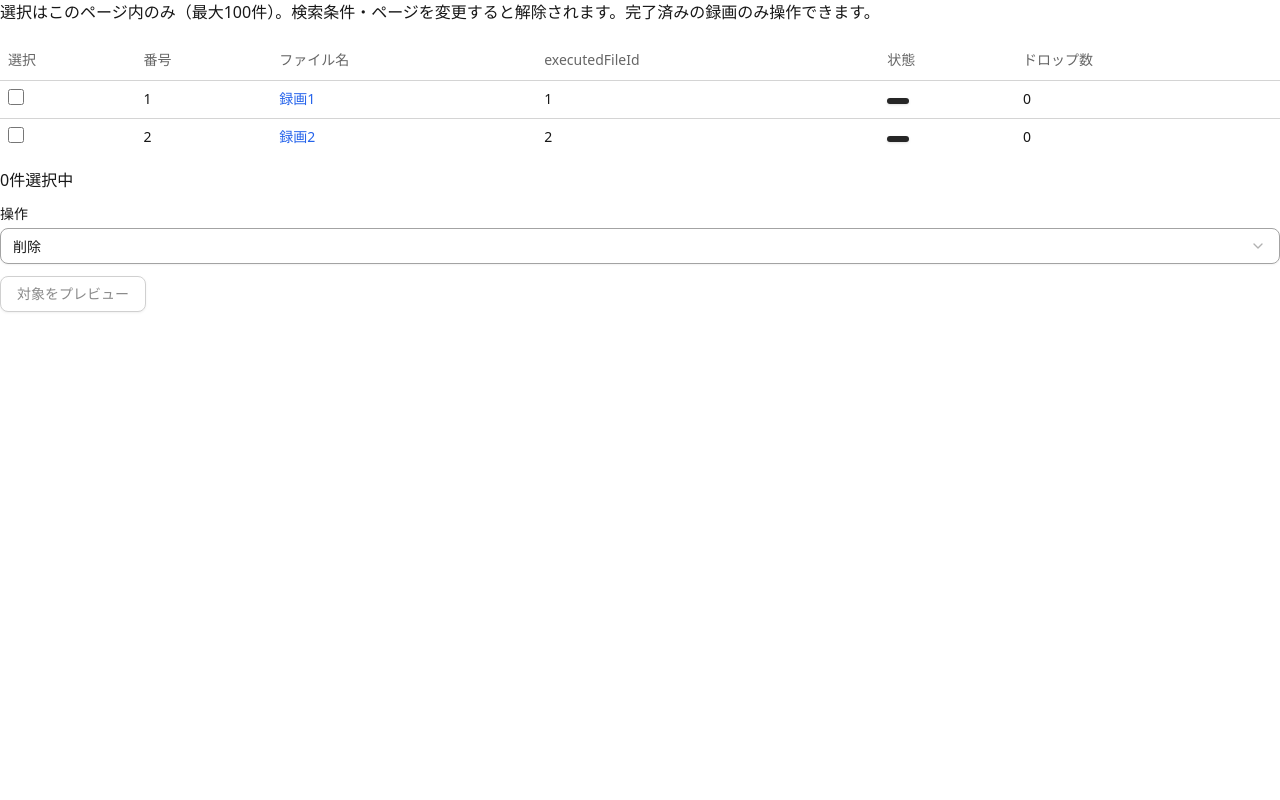
Test case: disables confirmation when no target in the plan is eligible
The width and height of the screenshot is (1280, 800).
Click the checkbox named "録画 1 を選択" at [16, 96], box [8,88,24,104]
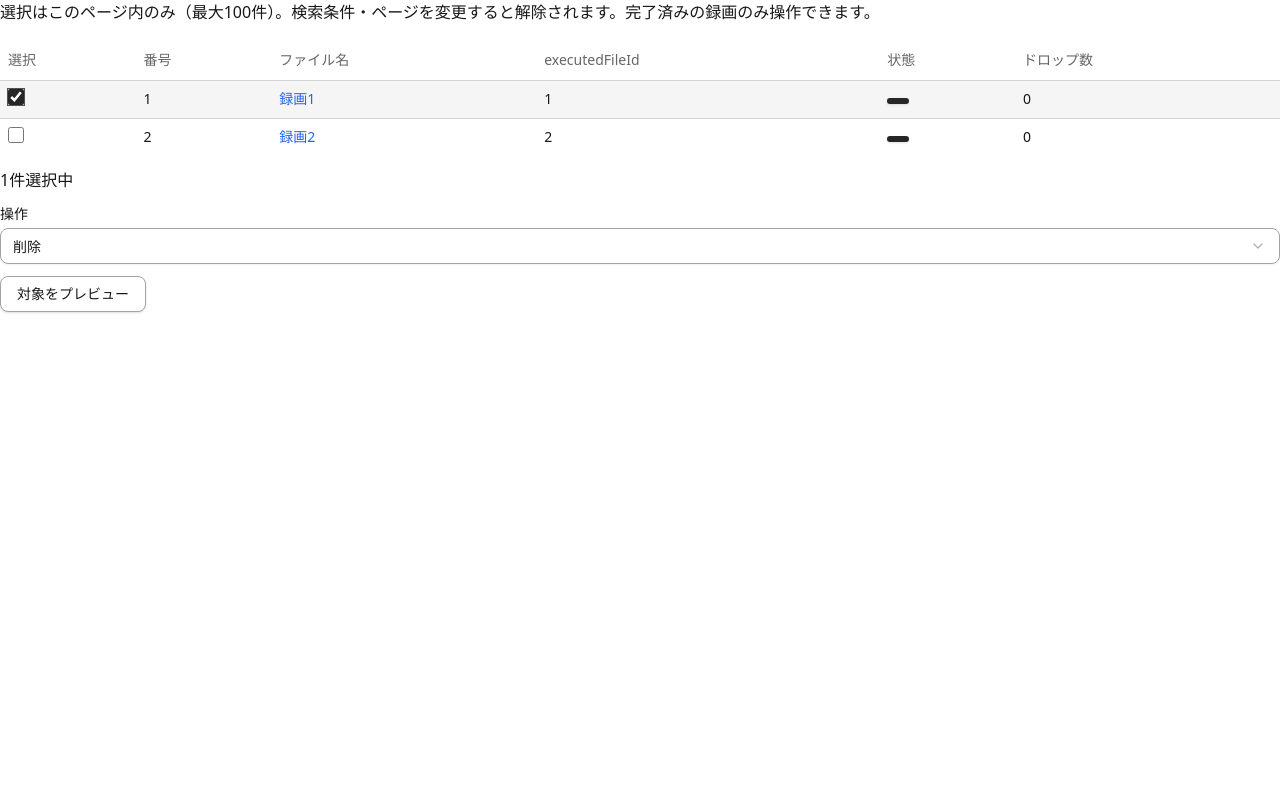
Click the button "対象をプレビュー" at [73, 294], box [0,276,146,312]
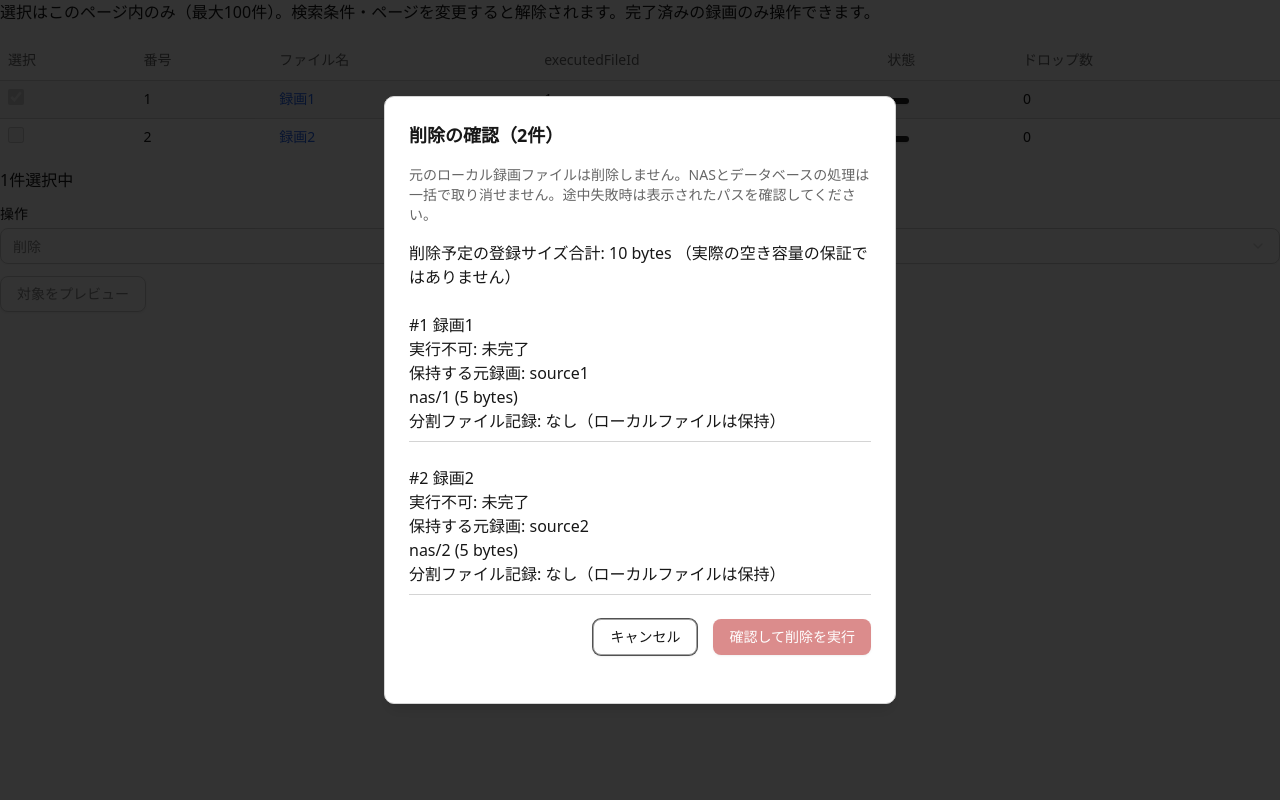
Now the button "確認して削除を実行" is disabled, box [713,619,871,655]
Now the text "実行不可: 未完了" is shown 2 times, box [409,338,530,360]; [409,491,530,513]
